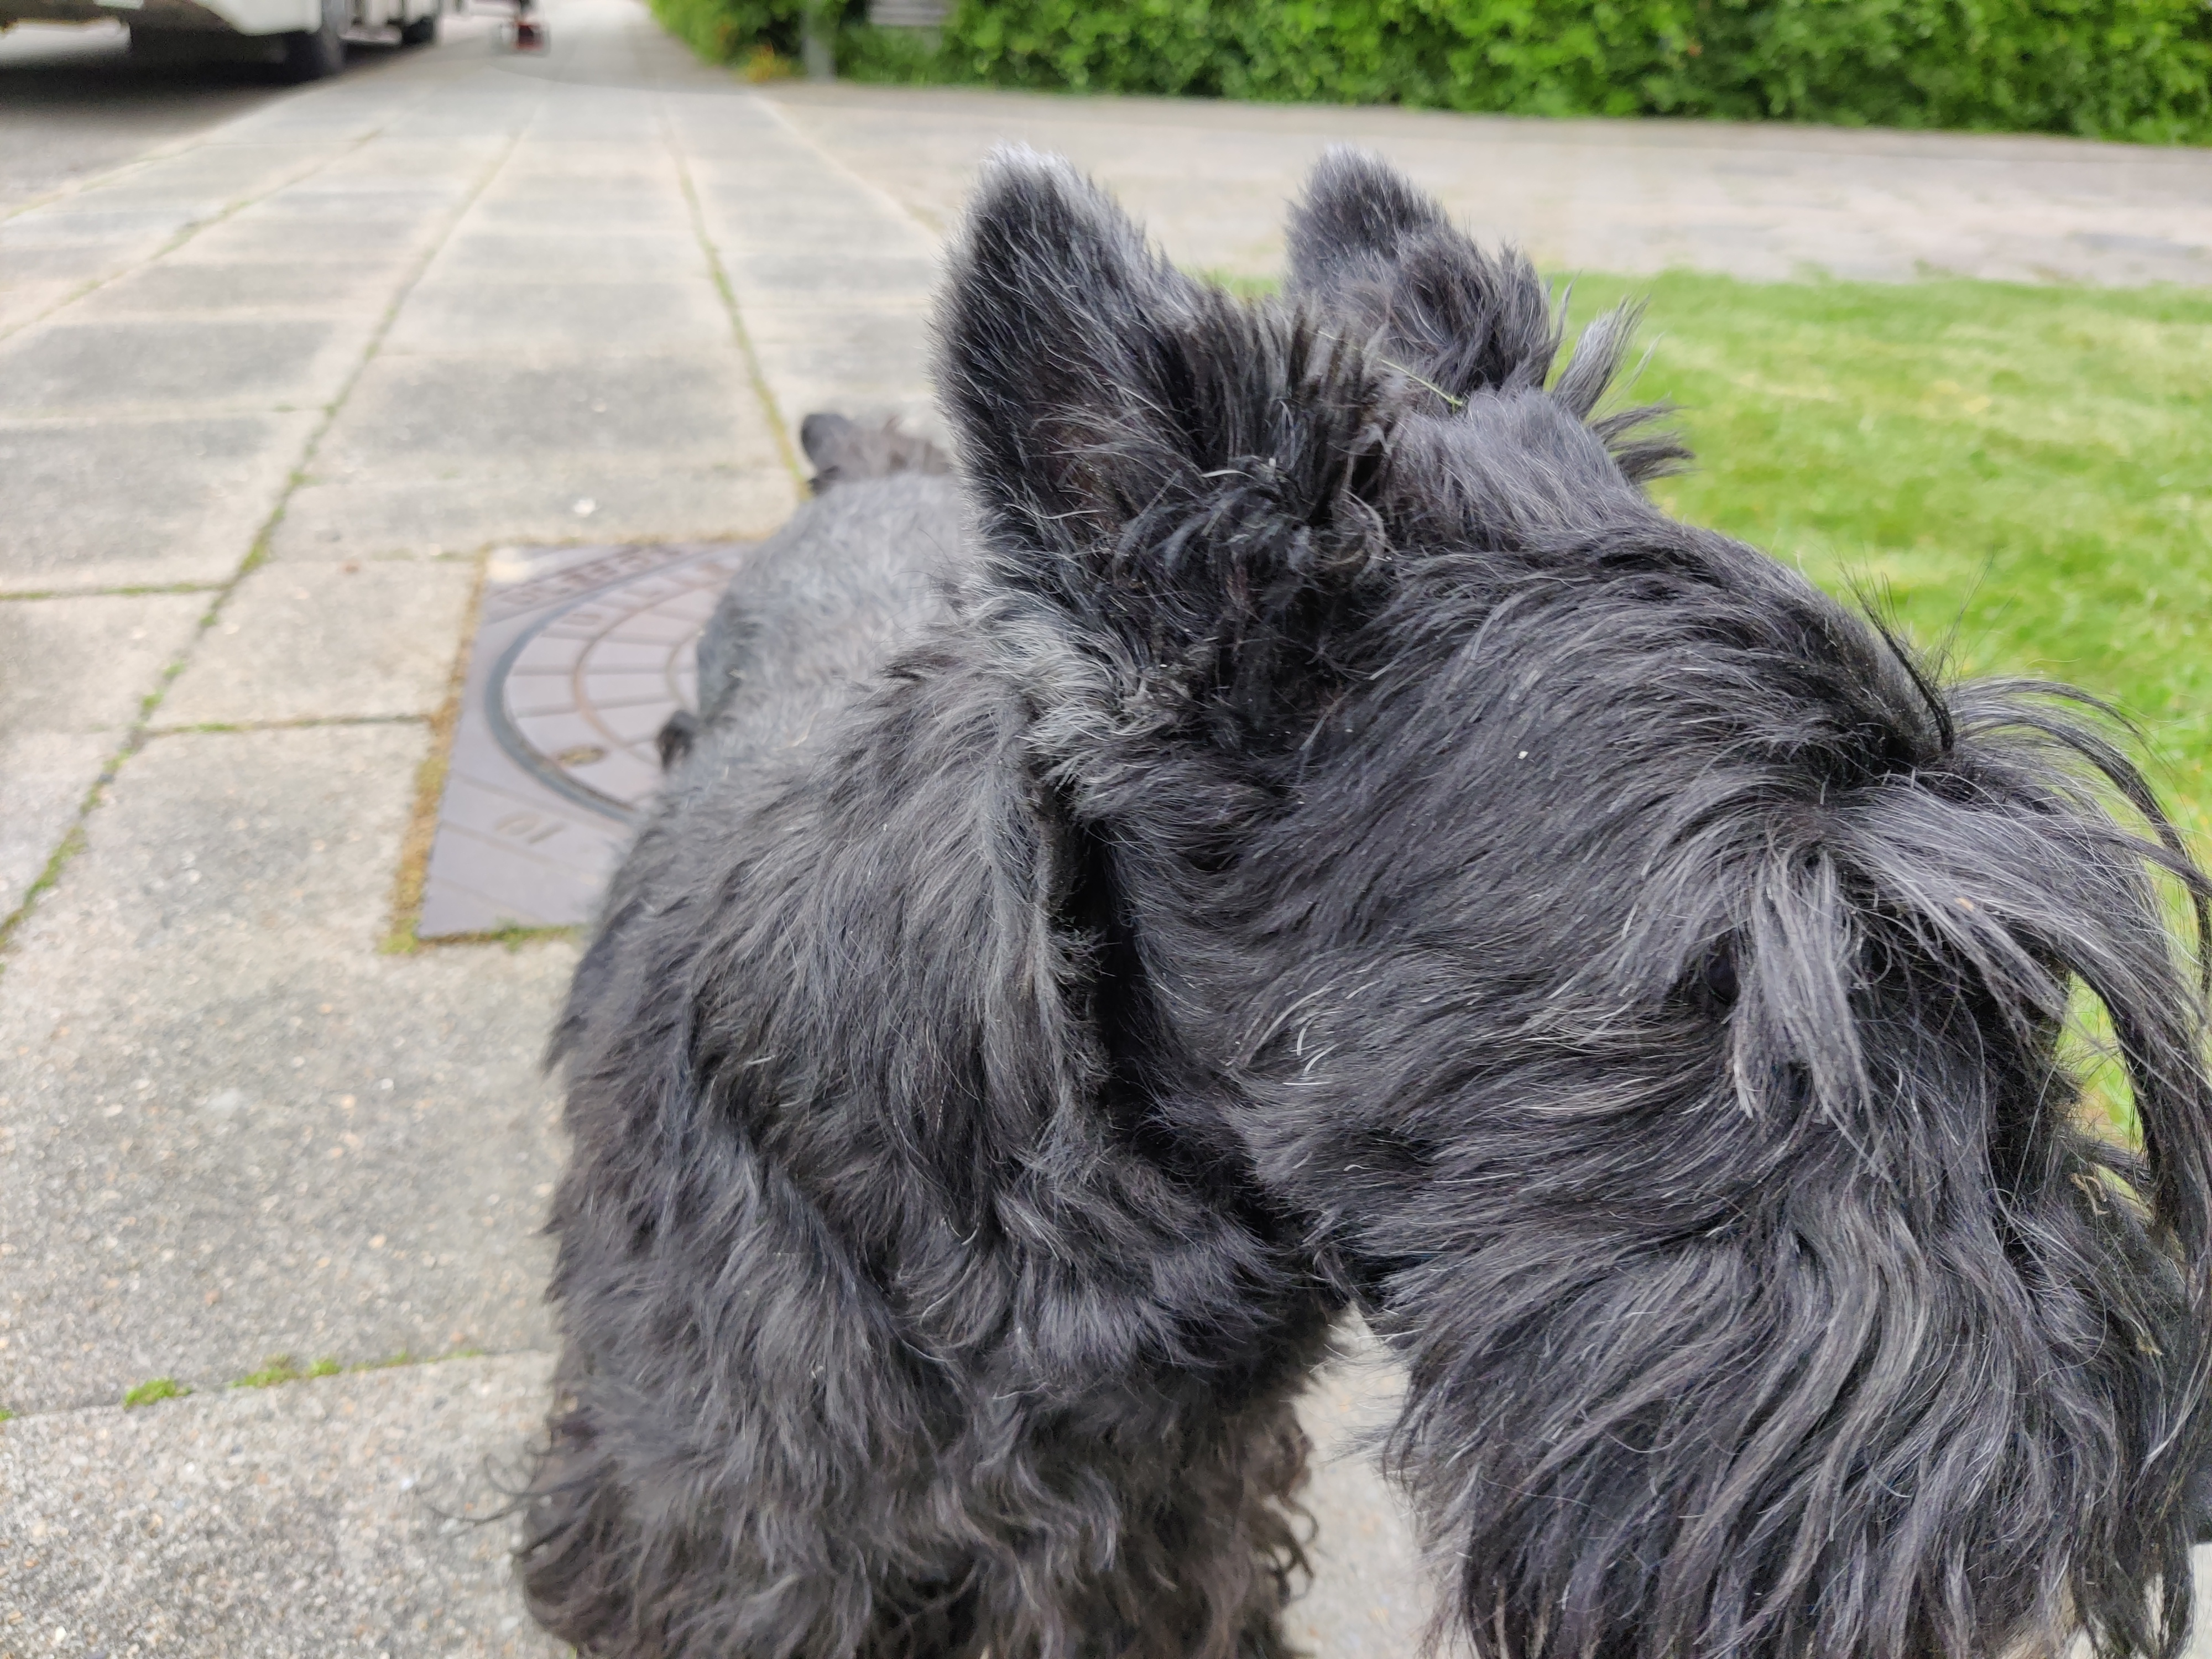Dog: (502, 132, 2212, 1659)
